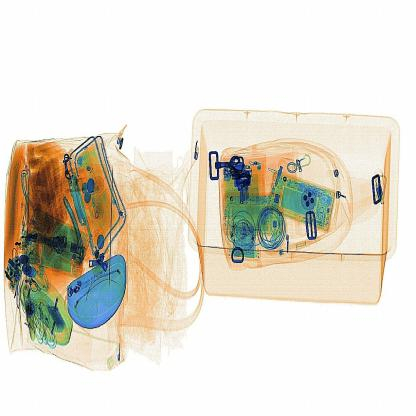knife: (226, 163, 256, 195)
